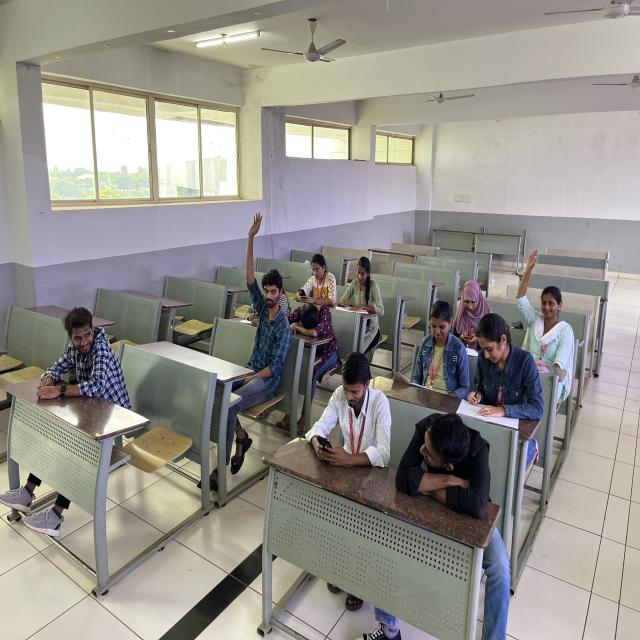Hand Rising: (510, 240, 596, 378), (236, 210, 296, 396)
Reading: (394, 292, 466, 400), (334, 251, 383, 319)
Sleeping: (287, 296, 340, 356)
Using Phone: (303, 346, 392, 470), (448, 272, 491, 359), (291, 242, 337, 308)
Writing: (469, 314, 526, 436)
